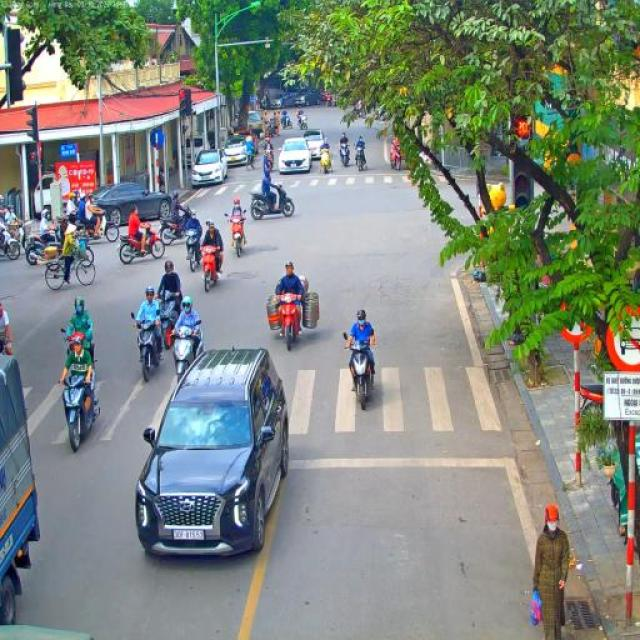car: (135, 346, 290, 562), (85, 182, 174, 226), (192, 148, 228, 187), (278, 137, 312, 174), (221, 134, 254, 168), (302, 129, 324, 160), (234, 130, 258, 154), (300, 89, 330, 107), (271, 92, 298, 108)
motorcycle: (58, 373, 100, 452), (342, 332, 377, 411), (60, 329, 99, 390), (131, 312, 163, 382), (172, 318, 204, 384), (119, 220, 165, 264), (247, 184, 295, 220), (25, 223, 66, 265), (158, 203, 197, 246), (73, 208, 121, 242), (276, 293, 303, 352), (154, 290, 178, 350), (199, 242, 223, 292), (224, 208, 248, 258), (184, 227, 204, 272), (60, 211, 85, 245), (0, 222, 20, 258), (3, 218, 25, 243), (318, 147, 332, 174), (354, 148, 368, 172), (390, 144, 402, 172), (338, 142, 351, 167), (263, 148, 276, 172), (296, 112, 308, 128), (281, 115, 293, 130), (266, 121, 276, 138)
truck: (0, 355, 41, 624), (246, 110, 264, 142)
